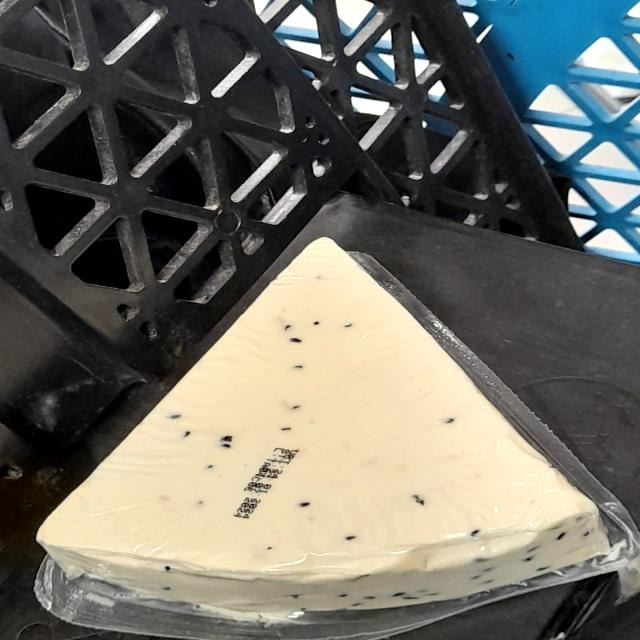cheese: (75, 271, 577, 601)
